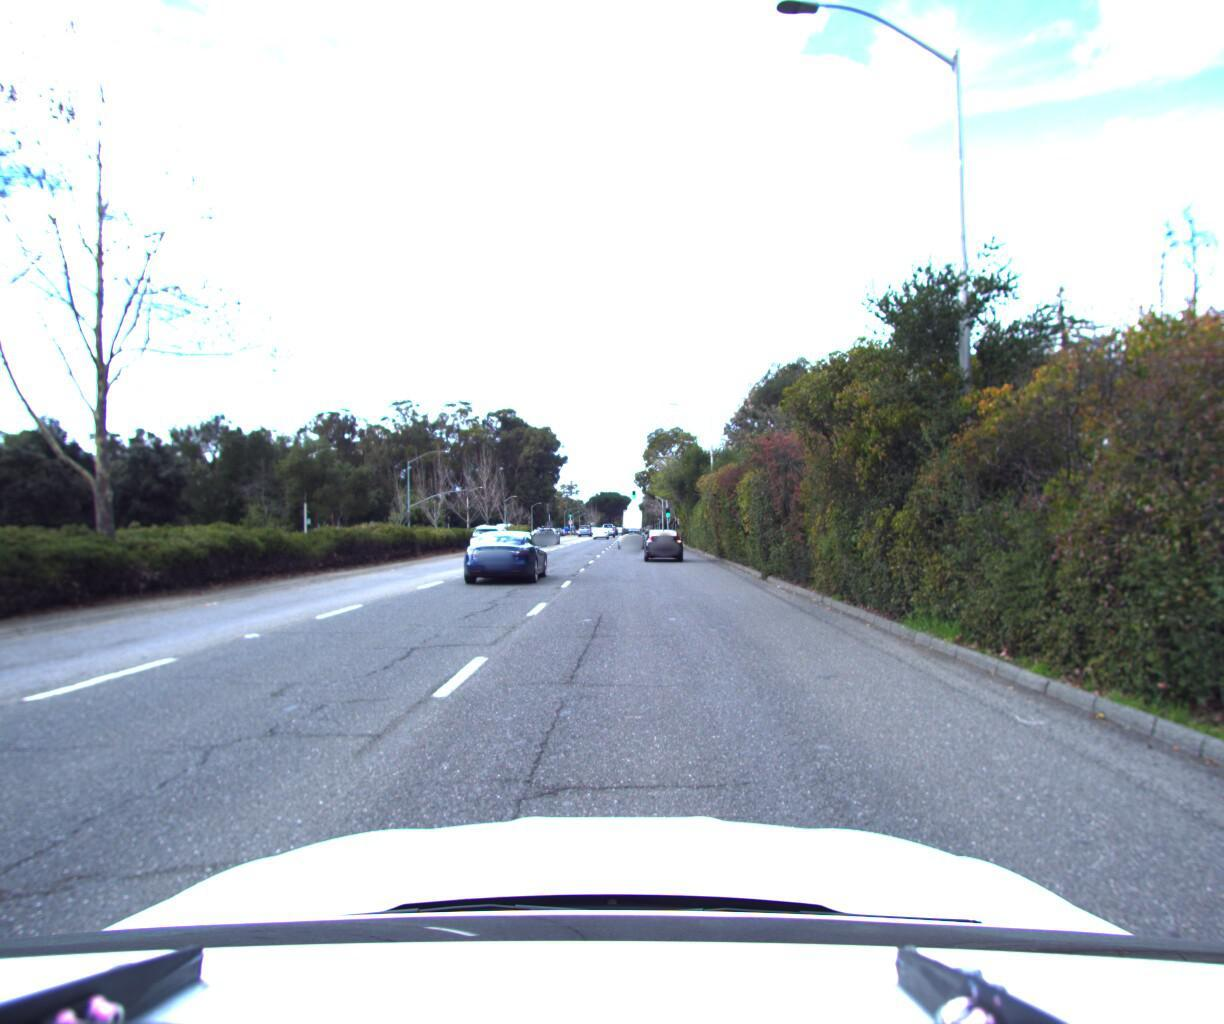car: (460, 528, 554, 586), (468, 521, 517, 557), (642, 524, 688, 561), (615, 525, 647, 551), (536, 524, 564, 546)
